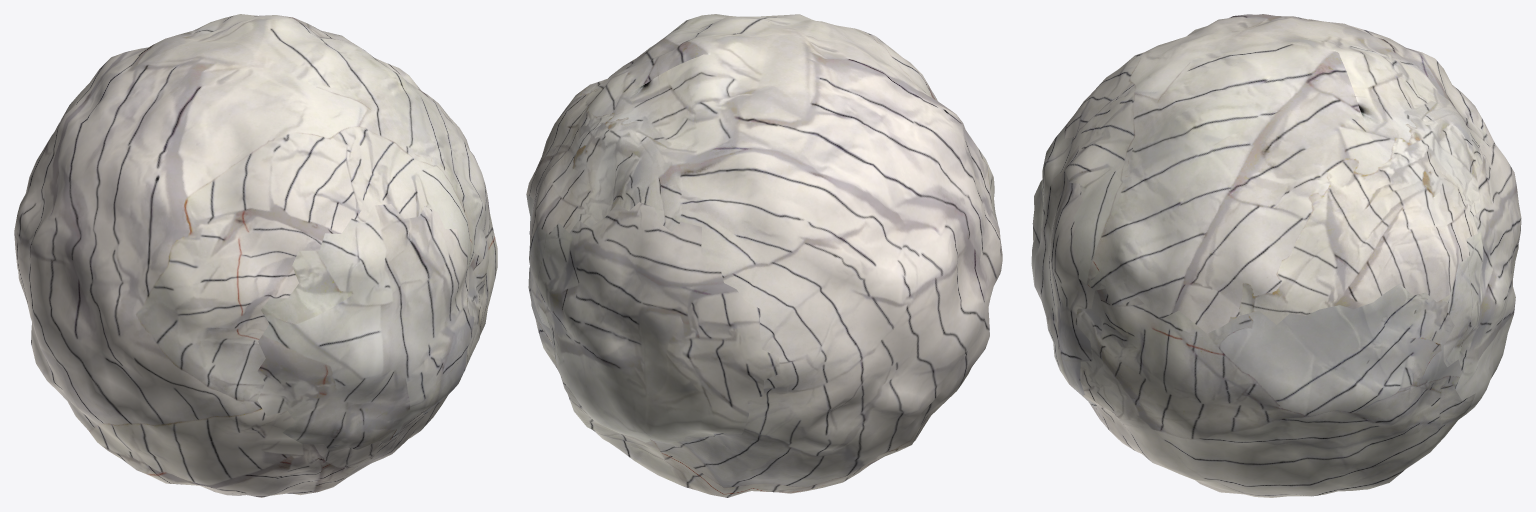
Rendered from jjAsteroidH_obj.fbx.
3 views of the same model, side by side, from view 1: azimuth 30°, elevation 25°; view 2: azimuth 150°, elevation 25°; view 3: azimuth 270°, elevation 25° (orthographic).
Parts seen in each view (by area): view 1: AsteroidH_mesh; view 2: AsteroidH_mesh; view 3: AsteroidH_mesh.
Part boxes in pixels (bbox=[...]): AsteroidH_mesh: bbox=[14, 14, 497, 497]; AsteroidH_mesh: bbox=[526, 14, 1002, 497]; AsteroidH_mesh: bbox=[1031, 14, 1521, 497].
Size of the model in its own units: 14.1 by 14.25 by 14.18.
